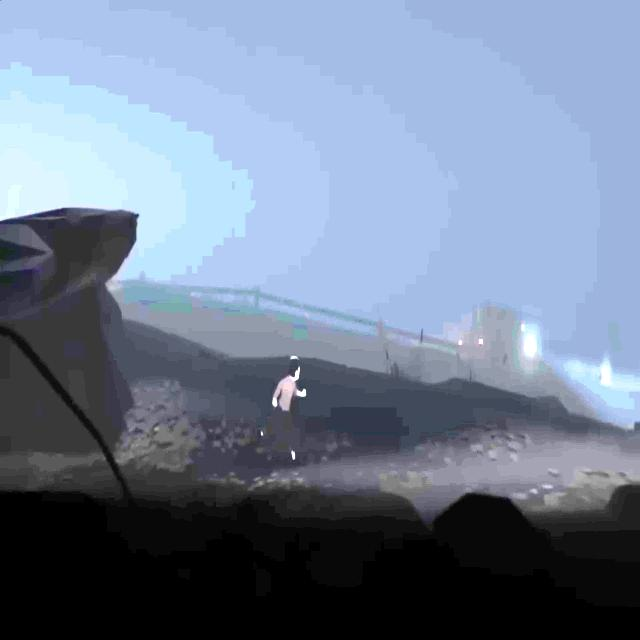boy: (258, 357, 306, 460)
